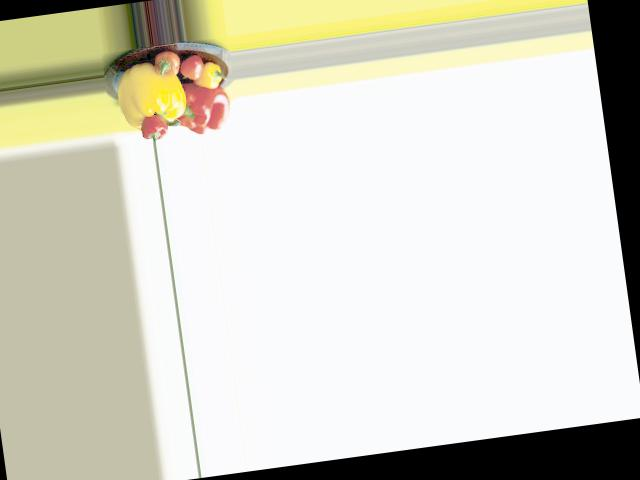bell_pepper: (195, 61, 226, 91)
